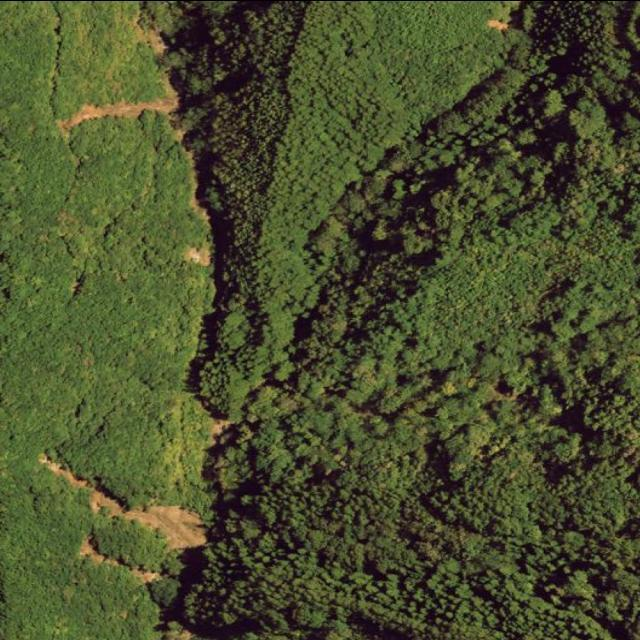landslide: (39, 454, 206, 549)
